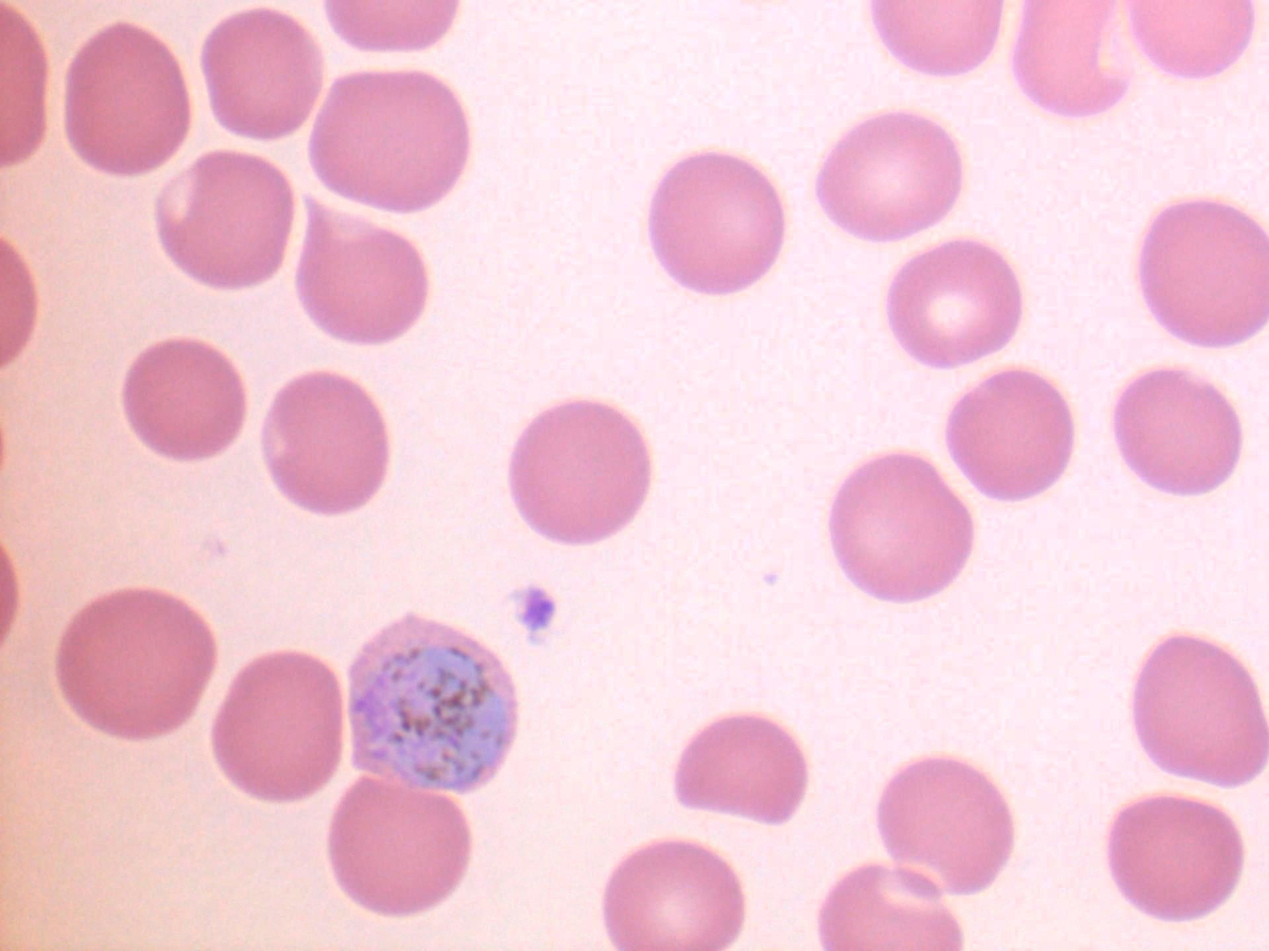Infected: (341, 613, 521, 796)
Uninfected: (59, 587, 217, 740), (828, 450, 972, 602), (511, 395, 654, 547), (293, 190, 426, 351), (311, 71, 467, 208), (258, 366, 395, 517), (1135, 637, 1269, 790), (216, 646, 347, 802), (646, 151, 784, 296), (330, 772, 471, 912), (1137, 197, 1269, 346), (877, 754, 1015, 896), (811, 113, 962, 242), (64, 23, 189, 171), (154, 155, 289, 290), (890, 236, 1025, 368), (1108, 796, 1247, 921), (1117, 364, 1245, 496), (200, 5, 326, 139), (952, 366, 1074, 498), (604, 838, 745, 951), (119, 340, 247, 458), (670, 719, 812, 825), (817, 862, 963, 951)
